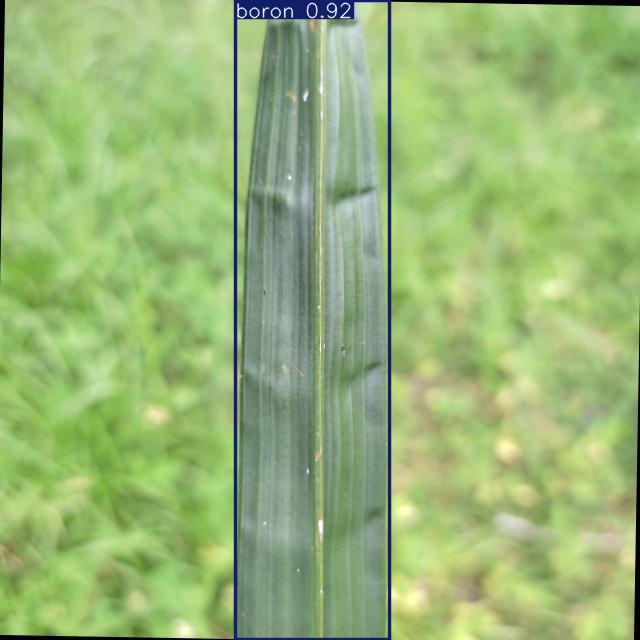nitrogen: (236, 0, 390, 640)
